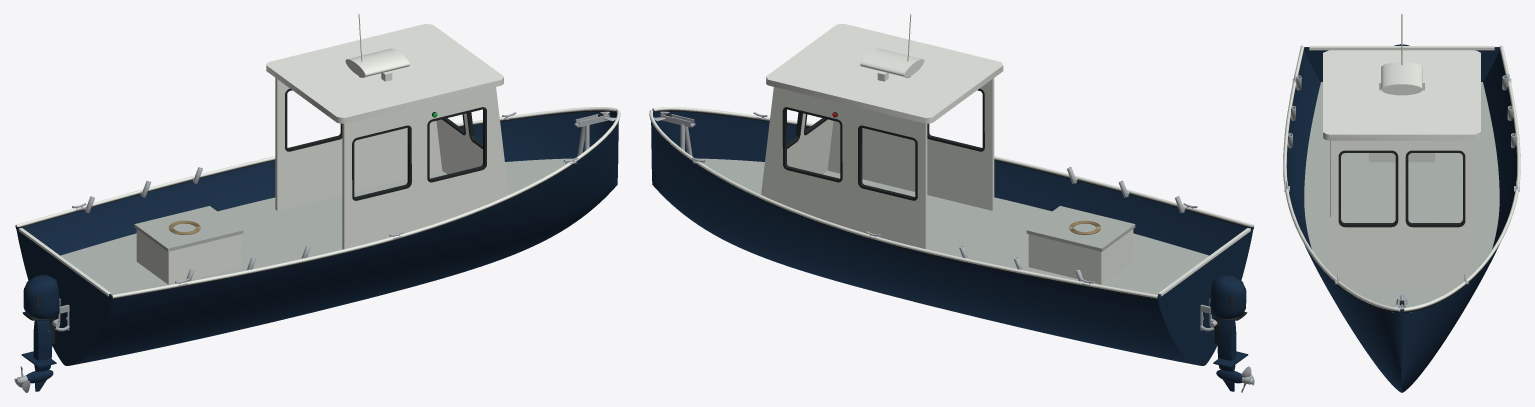
The model's file is boat.glb.
The picture shows the model from 3 angles, left to right: view 1: azimuth 30°, elevation 25°; view 2: azimuth 150°, elevation 25°; view 3: azimuth 270°, elevation 25°; orthographic projection. The views are drawn at different scales.
Parts seen in each view (by area): view 1: Finite lofted hull and transom, Closed navigation radar pod, Fish locker seated lid, Anchor rolling cylinder, Working outboard finite anti-ventilation plate, Anchor retained roller pin; view 2: Finite lofted hull and transom, Closed navigation radar pod, Fish locker seated lid, Anchor rolling cylinder, Working outboard finite anti-ventilation plate, Anchor retained roller pin; view 3: Closed navigation radar pod, Fish locker seated lid, Finite lofted hull and transom, Anchor rolling cylinder, Anchor retained roller pin.
Boxes of the visible parts, x1,y1,x2,y2 form: Finite lofted hull and transom: [16, 110, 618, 365]; Closed navigation radar pod: [15, 24, 620, 298]; Fish locker seated lid: [60, 158, 572, 294]; Anchor rolling cylinder: [16, 88, 618, 343]; Working outboard finite anti-ventilation plate: [21, 275, 59, 391]; Anchor retained roller pin: [14, 76, 615, 392]; Finite lofted hull and transom: [651, 110, 1253, 365]; Closed navigation radar pod: [649, 23, 1254, 298]; Fish locker seated lid: [696, 158, 1209, 294]; Anchor rolling cylinder: [651, 88, 1253, 343]; Working outboard finite anti-ventilation plate: [1210, 275, 1248, 391]; Anchor retained roller pin: [654, 76, 1254, 392]; Closed navigation radar pod: [1283, 45, 1520, 311]; Fish locker seated lid: [1304, 82, 1499, 306]; Finite lofted hull and transom: [1287, 47, 1516, 392]; Anchor rolling cylinder: [1286, 49, 1516, 312]; Anchor retained roller pin: [1284, 74, 1519, 312].
Bounding box in the file's own units: 8.71 × 4.14 × 2.88.
Materials: 10 (6 with a texture image).
